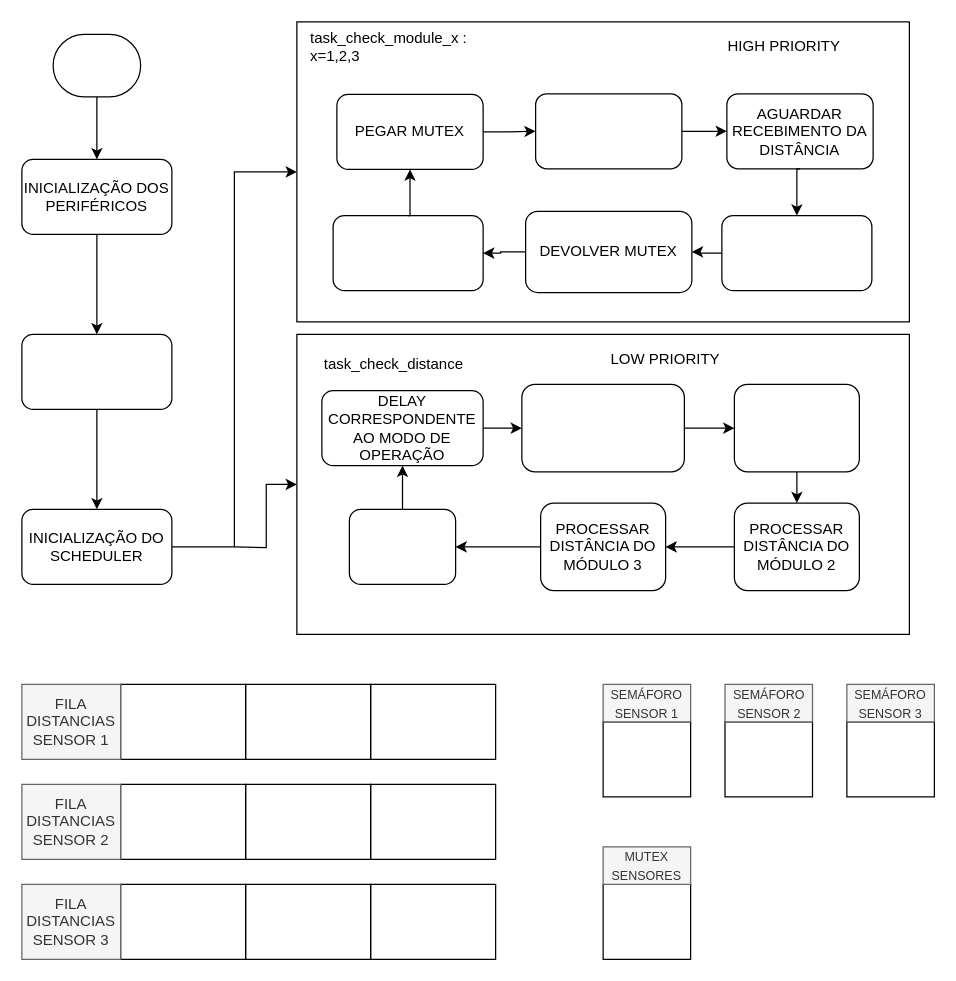
Some shapes in this 956 by 981 pixel diagram are drawn without their labels. The centre of each missing label's shape, as x and y in pixels:
ATIVAÇÃO DO MÓDULO HC-SR04_X: pixel 608 130
COLOCAR NA FILA DO MÓDULO X O TEMPO DE ENVIO DO SINAL: pixel 796 252
COLOCAR TODOS OS SEMÁFOROS: pixel 602 427
DECLARAÇÃO DAS TASKS, MUTEX, FILAS E SEMÁFOROS: pixel 96 371
DEFINIÇÃO DO MODO DE OPERAÇÃO: pixel 402 546
INÍCIO: pixel 96 65
PEGAR SEMÁFORO CORRESPONDENTE: pixel 407 252
PROCESSAR DISTÂNCIA DO MÓDULO 1: pixel 796 427
